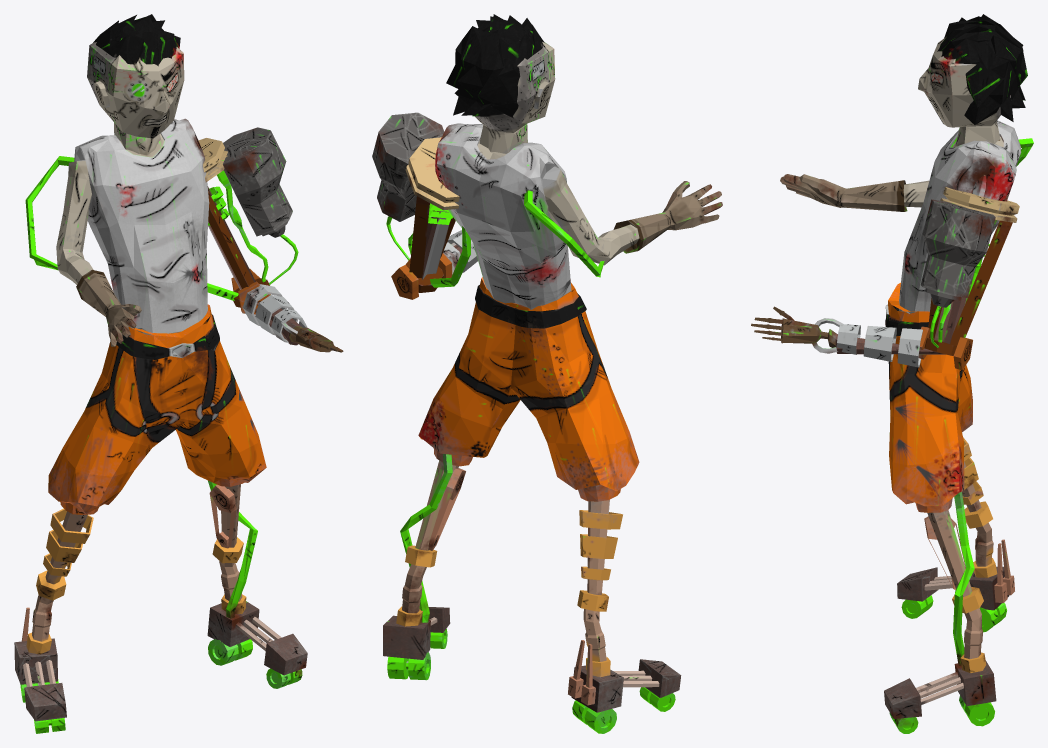
Rendered from CyborgFINALAnimation_000004.obj.
3 renders of one model, left to right at view 1: azimuth 30°, elevation 25°; view 2: azimuth 150°, elevation 25°; view 3: azimuth 270°, elevation 25°, orthographic. The views are drawn at different scales.
Visible parts, largest first — view 1: CyborgMesh_Cube.002; view 2: CyborgMesh_Cube.002; view 3: CyborgMesh_Cube.002.
Part boxes in pixels (bbox=[...]): CyborgMesh_Cube.002: bbox=[14, 14, 343, 733]; CyborgMesh_Cube.002: bbox=[372, 14, 722, 733]; CyborgMesh_Cube.002: bbox=[751, 14, 1033, 733].
Bounding box in the file's own units: 4.14 × 9.58 × 3.74.
